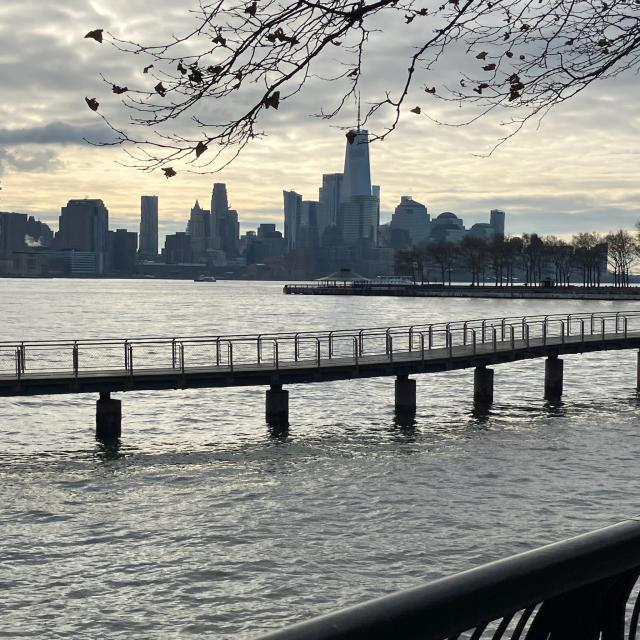WTC: (340, 90, 374, 196)
